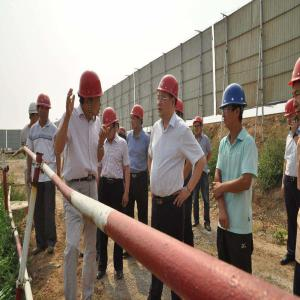blue: (222, 83, 247, 133)
red: (80, 70, 103, 119), (157, 75, 179, 124), (102, 107, 118, 141), (292, 59, 300, 120), (285, 99, 299, 133), (37, 92, 52, 122), (131, 107, 145, 133), (193, 116, 203, 137)
white: (29, 102, 40, 125)
